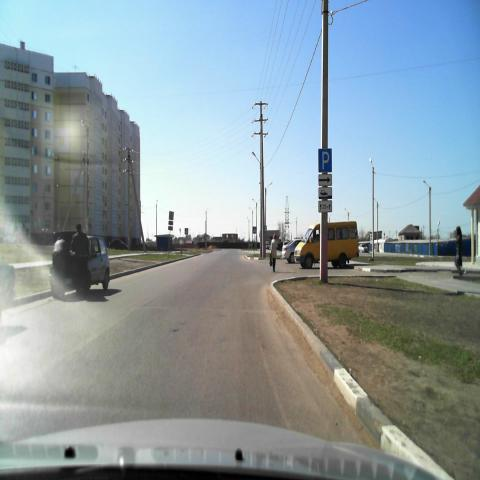6_4: (318, 147, 332, 173)
8_3_1: (318, 175, 332, 185)
8_6_4: (319, 187, 332, 198)
